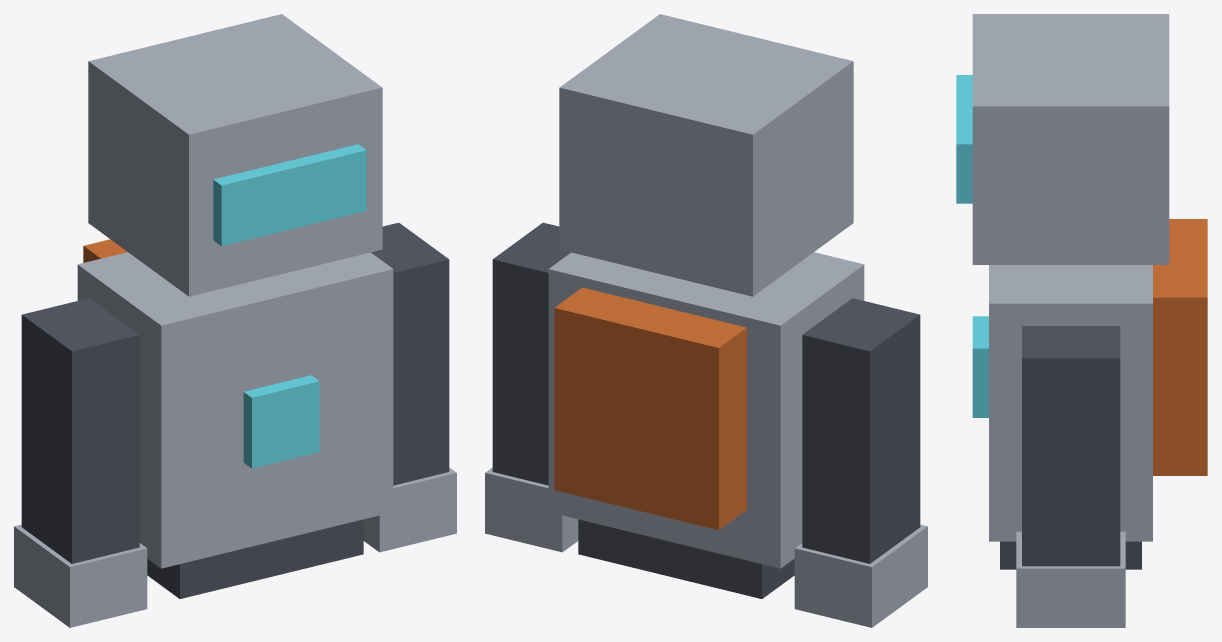
The model's file is Wasteland3DProbe.obj.
3 views of the same model, side by side, from view 1: azimuth 30°, elevation 25°; view 2: azimuth 150°, elevation 25°; view 3: azimuth 270°, elevation 25° (orthographic). The views are drawn at different scales.
Parts seen in each view (by area): view 1: torso, head, arm_l, arm_r; view 2: torso, head, arm_l, arm_r; view 3: head, torso, arm_r.
Boxes of the visible parts, x1,y1,x2,y2 form: torso: (77,239,393,598); head: (88,14,382,296); arm_l: (14,298,147,627); arm_r: (363,222,456,552); torso: (548,252,864,598); head: (559,14,853,296); arm_l: (794,298,927,627); arm_r: (485,222,578,552); head: (956,14,1169,264); torso: (972,219,1207,569); arm_r: (1016,326,1125,627).
Size of the model in its own units: 0.8 by 0.96 by 0.46.
